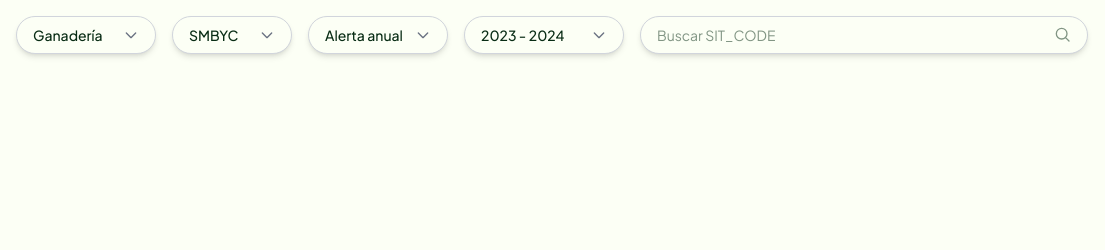
Test: FilterBar › falling back to the map filters context › uses the context risk options
Click the text "Alerta anual" at point(370, 35), box [325,25,415,45]
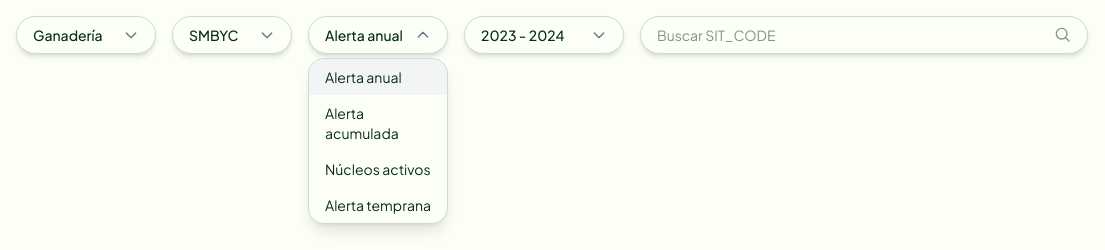
Expected: the text "Alerta temprana" is shown, [325,196,431,214]
